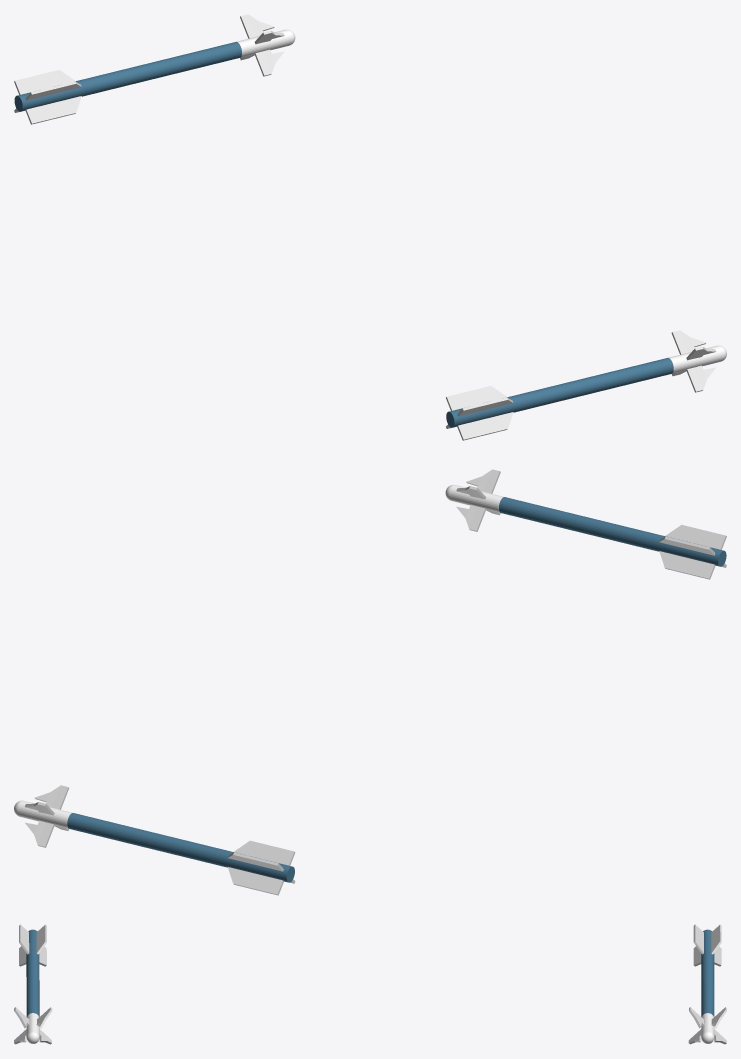
Rendered from aam3uf2a16.glb.
3 views of the same model, one above another, from view 1: azimuth 30°, elevation 25°; view 2: azimuth 150°, elevation 25°; view 3: azimuth 270°, elevation 25° (orthographic). The views are drawn at different scales.
Visible parts, largest first — view 1: 球.001, 球.003; view 2: 球.003, 球.001; view 3: 球.001, 球.003.
Part boxes in pixels (<box>): 球.001: <box>14,14,295,124</box>; 球.003: <box>446,330,726,440</box>; 球.003: <box>445,469,726,579</box>; 球.001: <box>14,785,295,895</box>; 球.001: <box>688,924,726,1044</box>; 球.003: <box>14,924,52,1044</box>.
Bounding box in the file's own units: 4.05 × 0.6241 × 11.6.
